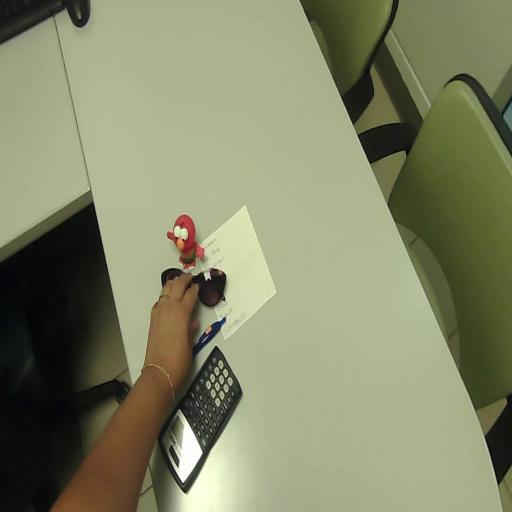pen: (193, 317, 226, 356)
